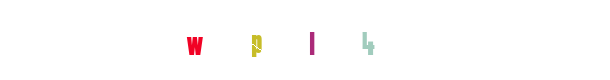4: (289, 0, 369, 80)
L: (265, 0, 345, 80)
P: (216, 0, 296, 80)
W: (189, 0, 269, 80)
